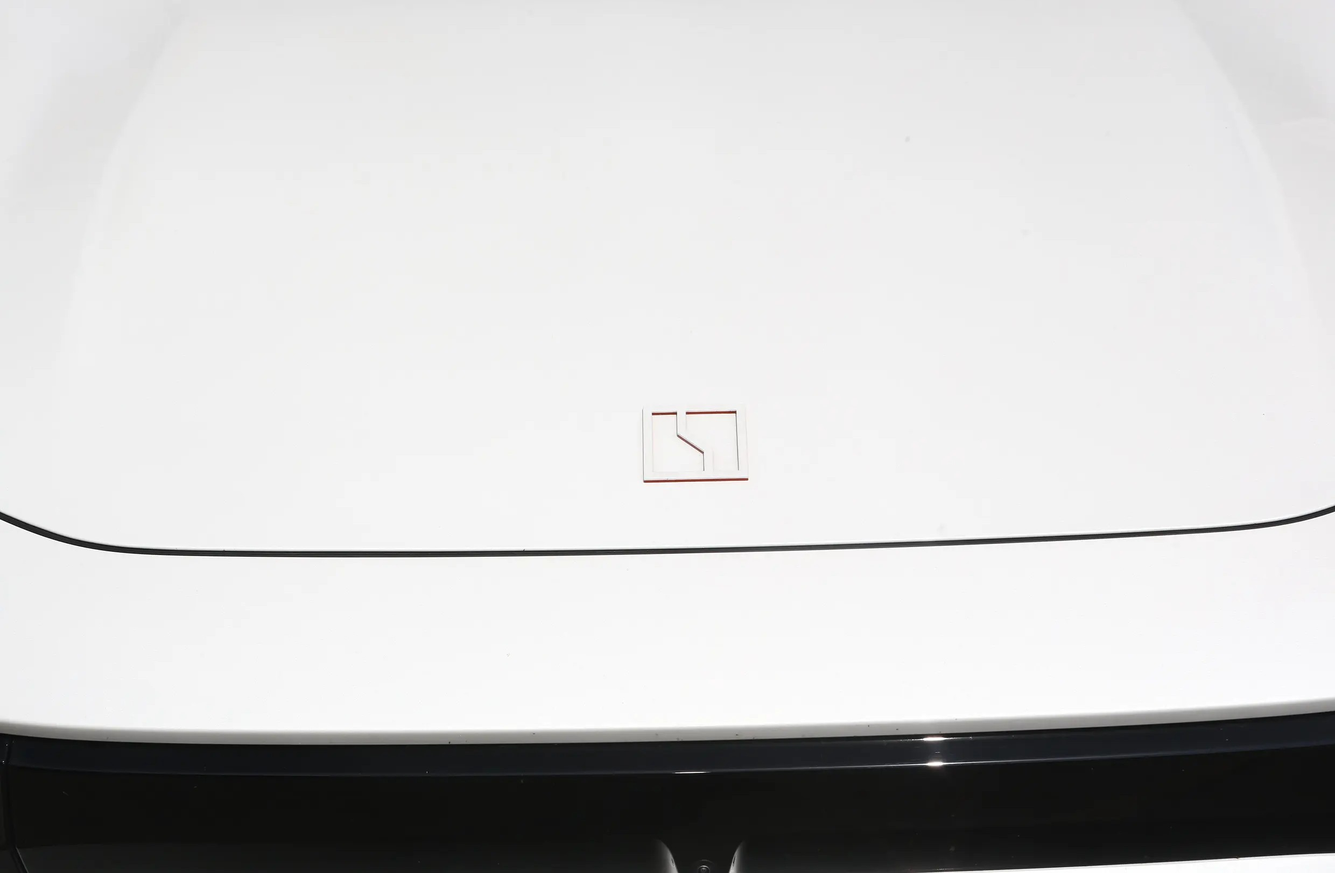ZEEKR: (643, 406, 748, 482)
